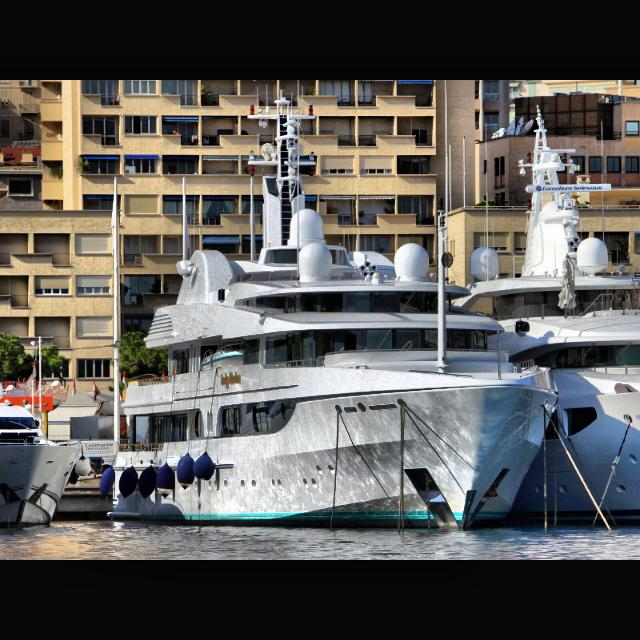yacht: (100, 86, 560, 530)
